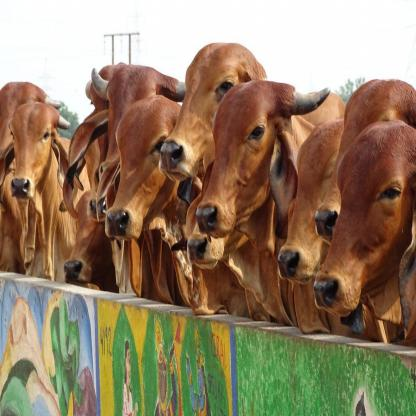cow: (315, 123, 416, 316), (197, 82, 295, 238), (160, 41, 267, 182), (278, 118, 346, 285), (105, 97, 182, 242), (9, 103, 58, 197), (64, 190, 108, 286)
